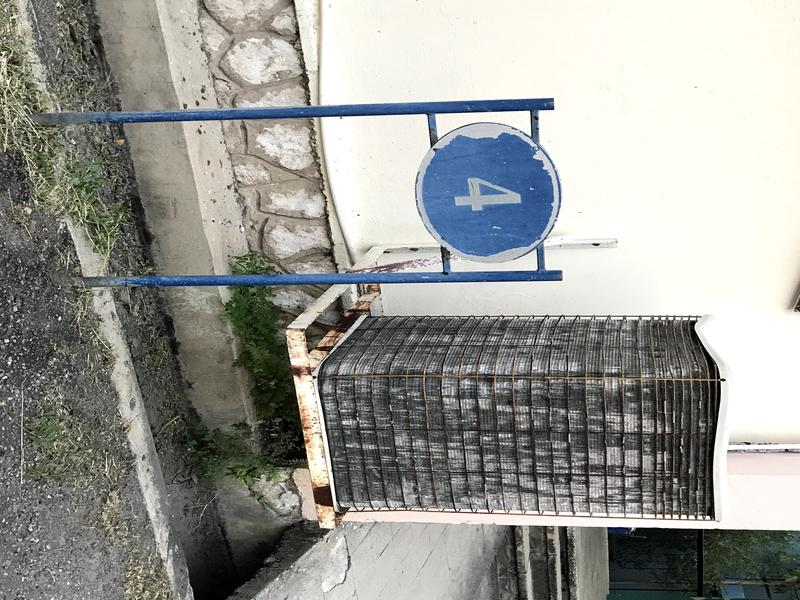18.0053530_-76.7490375_signatentrancetoscitech: (13, 60, 613, 333)
